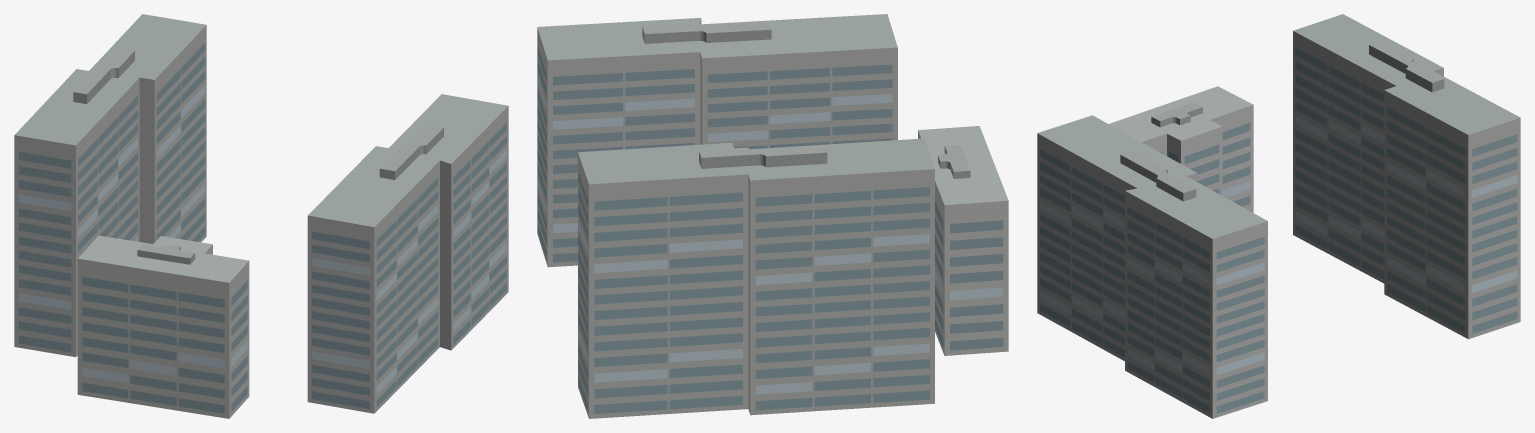
The model's file is apt-a13614301.glb.
The picture shows the model from 3 angles, left to right: view 1: azimuth 30°, elevation 25°; view 2: azimuth 150°, elevation 25°; view 3: azimuth 270°, elevation 25°; orthographic projection. The views are drawn at different scales.
Parts seen in each view (by area): view 1: apt-a13614301; view 2: apt-a13614301; view 3: apt-a13614301.
Part boxes in pixels (<box>): apt-a13614301: <box>14,14,508,418</box>; apt-a13614301: <box>537,14,1008,418</box>; apt-a13614301: <box>1037,14,1520,418</box>.
Bounding box in the file's own units: 84.85 × 42 × 86.05.
